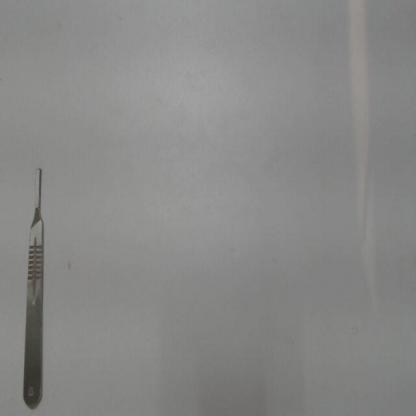No.4 BP Handle: (16, 158, 48, 414)
